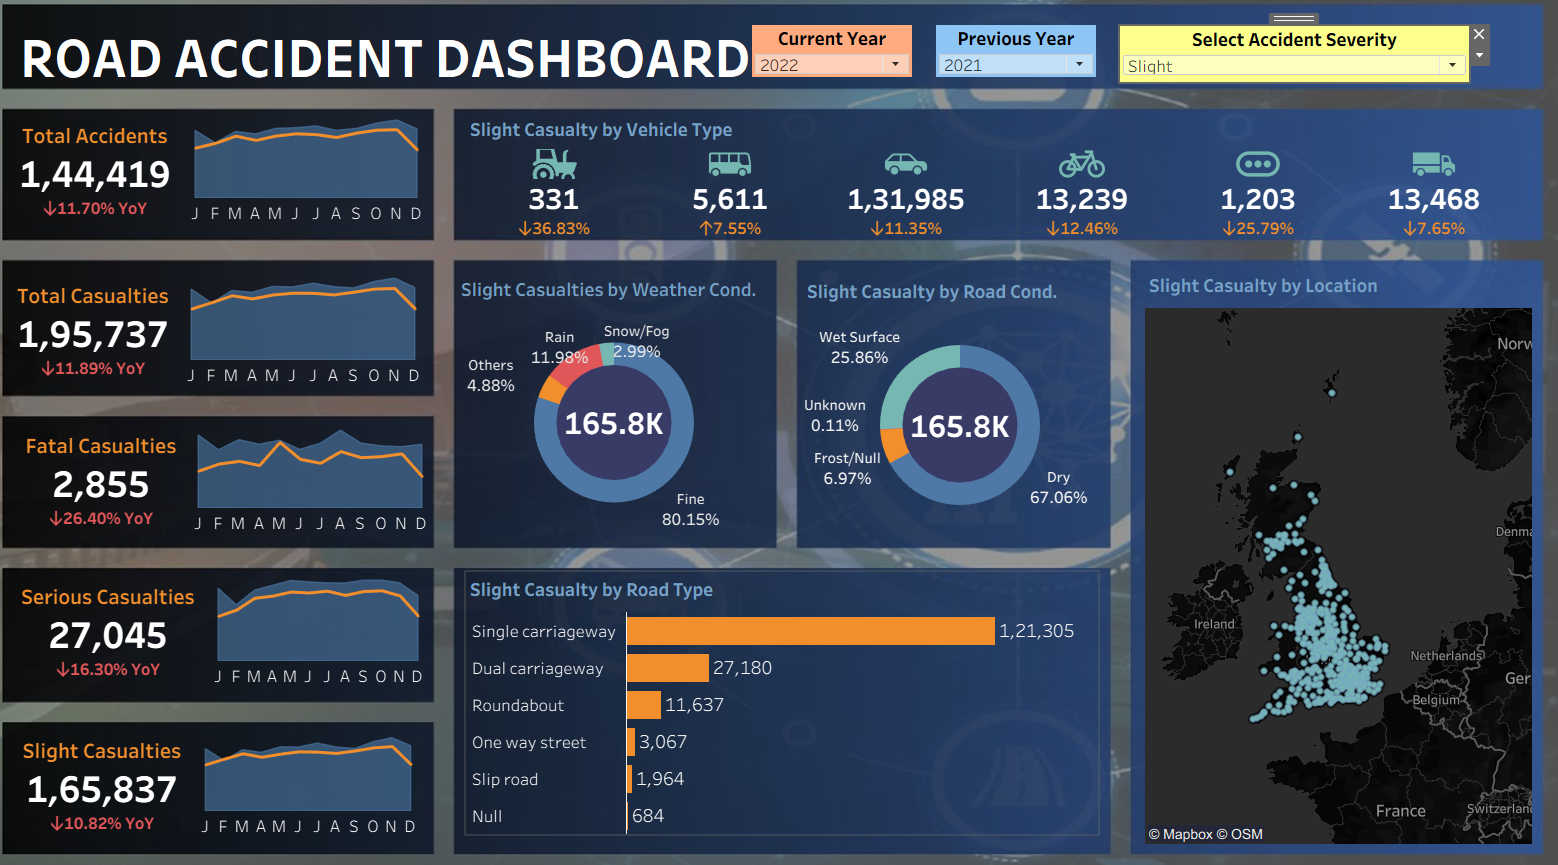

Layout of this report page (visuals, bound fields, positions):
{"tool":"tableau","page":{"name":"Dashboard 1","canvas":[1000,1000],"units":"permille","ordinal":0},"visuals":[{"type":"image","param":"Image/Background.jpg","box":[5,8.6,990,982.7]},{"type":"text","box":[27.2,57.2,494.3,77.8]},{"type":"parameter","param":"[Parameters].[Parameter 0280965394235394]","box":[486.2,62.6,99.8,56.2]},{"type":"parameter","param":"[Parameters].[Current Year (copy)_0280965395177475]","box":[601,62.6,99.8,56.2]},{"type":"parameter","param":"[Parameters].[Parameter 0567938290401281]","box":[715.8,63.7,217.6,60.5]},{"type":"worksheet","title":"Total Accidents","mark":"Automatic","box":[23.1,156.6,107.2,126.4]},{"type":"worksheet","title":"Accident Sparkline","mark":"Automatic","rows":["CY Accidents (copy)_0280965400219655","Calculation_0280965398462470"],"cols":["Accident Date"],"box":[130.3,156.6,155.8,126.4]},{"type":"text","box":[305.7,157.7,663.3,34.6]},{"type":"worksheet","title":"Vehicle Type Images","mark":"Shape","box":[305.7,192.2,663.3,36.7]},{"type":"worksheet","title":"Casualty by Vehicle Type KPI","mark":"Automatic","box":[305.7,229,663.3,68]},{"type":"worksheet","title":"Casualties by Location","mark":"Automatic","rows":["Latitude"],"cols":["Longitude"],"box":[731.5,325.1,241.1,622]},{"type":"worksheet","title":"Total Casualties","mark":"Automatic","box":[22.4,327.2,105.4,130.7]},{"type":"worksheet","title":"Total Casualty Sparkline","mark":"Automatic","rows":["CY Casualties (copy)_0280965444804618","Calculation_0280965443506185"],"cols":["Accident Date"],"box":[127.8,327.2,157.1,130.7]},{"type":"worksheet","title":"Weather Conditions","mark":"Pie","rows":["Calculation_1068216115617793","Calculation_1068216115617793"],"box":[302.5,329.4,195.6,281.9]},{"type":"worksheet","title":"Road Conditions","mark":"Pie","rows":["Calculation_1068216115617793","Calculation_1068216115617793"],"box":[518.4,331.5,195.6,282.9]},{"type":"worksheet","title":"Fatal Casualties","mark":"Automatic","box":[28.1,491.4,104.1,126.4]},{"type":"worksheet","title":"Fatal Casualty Sparkline","mark":"Automatic","rows":["CY Fatal Casualties (copy)_0280965472915469","Calculation_0280965471055884"],"cols":["Accident Date"],"box":[132.2,491.4,157.1,126.4]},{"type":"worksheet","title":"Serious Casualties","mark":"Automatic","box":[23.7,653.4,121.6,129.6]},{"type":"worksheet","title":"Serious Casualty Sparkline ","mark":"Automatic","rows":["PY Fatal Casualties (copy)_0280965474508816","CY Fatal Casualties (copy)_0280965474258959"],"cols":["Accident Date"],"box":[145.3,653.4,140.9,129.6]},{"type":"worksheet","title":"Casualties by Road Type","mark":"Automatic","rows":["Road_Type"],"cols":["Calculation_0280965443506185"],"box":[308.2,653.4,393.7,282.9]},{"type":"worksheet","title":"Slight Casualties","mark":"Automatic","box":[24.3,824,112.9,119.9]},{"type":"worksheet","title":"Slight Casualty Sparkline","mark":"Automatic","rows":["PY Serious Casualties  (copy)_0280965475819539","CY Serious Casualties  (copy)_0280965475590162"],"cols":["Accident Date"],"box":[137.2,824,144.6,119.9]}]}

Visuals, with their boxes on the dashboard's canvas, which has no fixed pixel size, in thousandths of its width and height (x1, y1, x2, y2). These are canvas units, not pixel positions in the 1558x865 screenshot, which may show the page scaled, cropped or inside an application window:
image: bbox=(5, 9, 995, 991)
text: bbox=(27, 57, 522, 135)
parameter: bbox=(486, 63, 586, 119)
parameter: bbox=(601, 63, 701, 119)
parameter: bbox=(716, 64, 933, 124)
"Total Accidents" worksheet: bbox=(23, 157, 130, 283)
"Accident Sparkline" worksheet: bbox=(130, 157, 286, 283)
text: bbox=(306, 158, 969, 192)
"Vehicle Type Images" worksheet (Shape marks): bbox=(306, 192, 969, 229)
"Casualty by Vehicle Type KPI" worksheet: bbox=(306, 229, 969, 297)
"Casualties by Location" worksheet: bbox=(732, 325, 973, 947)
"Total Casualties" worksheet: bbox=(22, 327, 128, 458)
"Total Casualty Sparkline" worksheet: bbox=(128, 327, 285, 458)
"Weather Conditions" worksheet (Pie marks): bbox=(302, 329, 498, 611)
"Road Conditions" worksheet (Pie marks): bbox=(518, 332, 714, 614)
"Fatal Casualties" worksheet: bbox=(28, 491, 132, 618)
"Fatal Casualty Sparkline" worksheet: bbox=(132, 491, 289, 618)
"Serious Casualties" worksheet: bbox=(24, 653, 145, 783)
"Serious Casualty Sparkline " worksheet: bbox=(145, 653, 286, 783)
"Casualties by Road Type" worksheet: bbox=(308, 653, 702, 936)
"Slight Casualties" worksheet: bbox=(24, 824, 137, 944)
"Slight Casualty Sparkline" worksheet: bbox=(137, 824, 282, 944)
